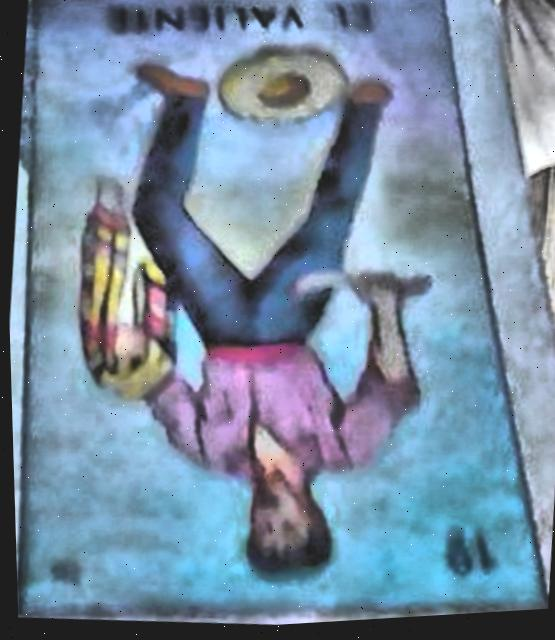El Valiente: (16, 0, 540, 616)
